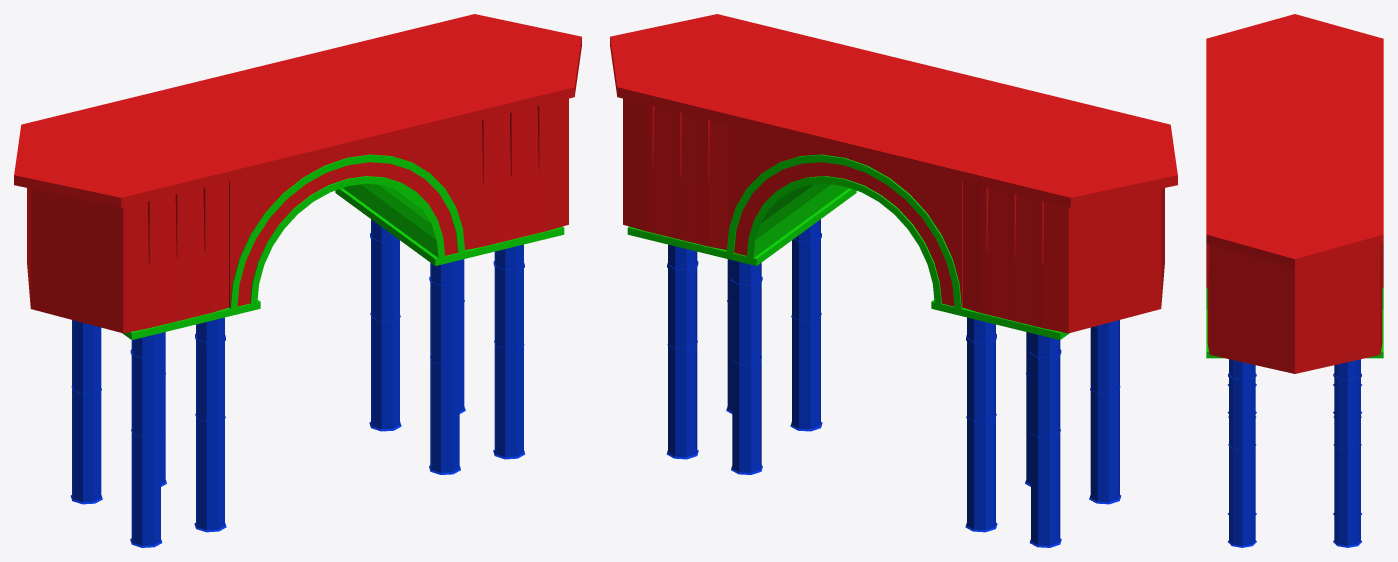
The model's file is arch1.fbx.
The picture shows the model from 3 angles, left to right: view 1: azimuth 30°, elevation 25°; view 2: azimuth 150°, elevation 25°; view 3: azimuth 270°, elevation 25°; orthographic projection. The views are drawn at different scales.
Visible parts, largest first — view 1: Cube.004, Cube.003, Cube.002, Cube; view 2: Cube.002, Cube, Cube.004, Cube.003; view 3: Cube.002, Cube.004, Cube, Cube.003.
Boxes of the visible parts, x1,y1,x2,y2 form: Cube.004: [14, 36, 581, 333]; Cube.003: [122, 154, 564, 547]; Cube.002: [14, 14, 580, 305]; Cube: [70, 183, 465, 504]; Cube.002: [610, 36, 1177, 333]; Cube: [627, 154, 1069, 547]; Cube.004: [611, 14, 1177, 305]; Cube.003: [726, 183, 1121, 504]; Cube.002: [1295, 14, 1383, 373]; Cube.004: [1206, 14, 1294, 373]; Cube: [1333, 287, 1383, 547]; Cube.003: [1206, 287, 1256, 547].
Bounding box in the file's own units: 7297 × 4534 × 2226.
